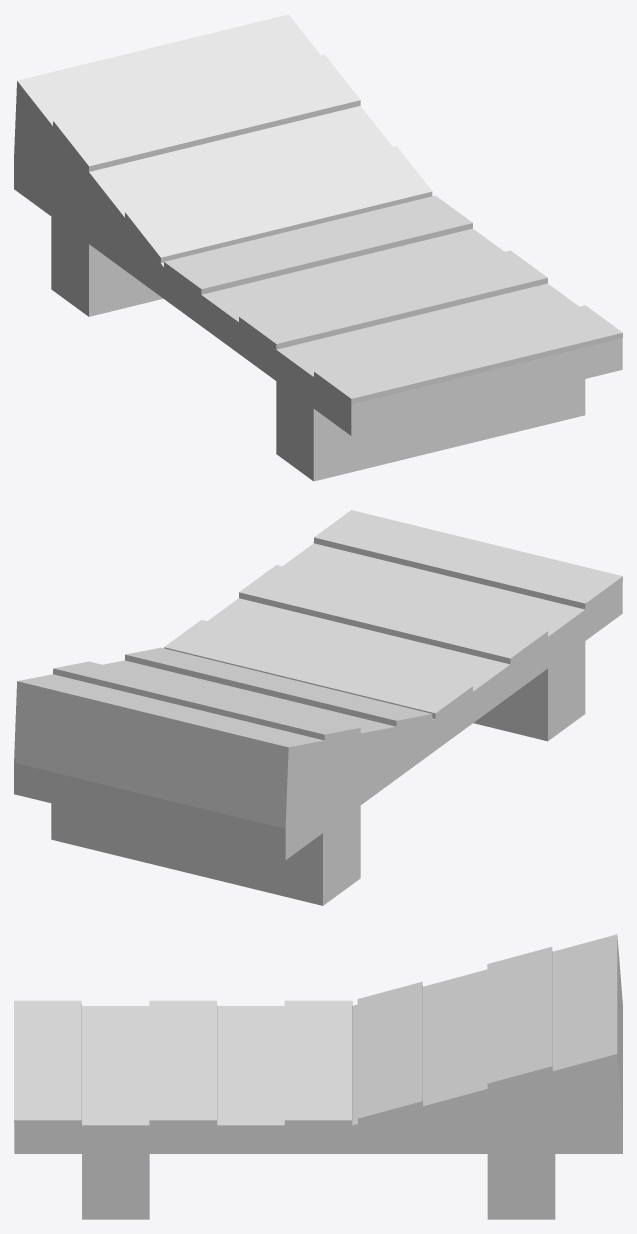
Rendered from beachchair.fbx.
The picture shows the model from 3 angles, top to bottom: view 1: azimuth 30°, elevation 25°; view 2: azimuth 150°, elevation 25°; view 3: azimuth 270°, elevation 25°; orthographic projection. The views are drawn at different scales.
Visible parts, largest first — view 1: Cube; view 2: Cube; view 3: Cube.
Part boxes in pixels (x1,y1,x2,y2): Cube: [14, 14, 622, 481]; Cube: [14, 510, 622, 905]; Cube: [14, 934, 622, 1219].
Bounding box in the file's own units: 200 × 129 × 430.
